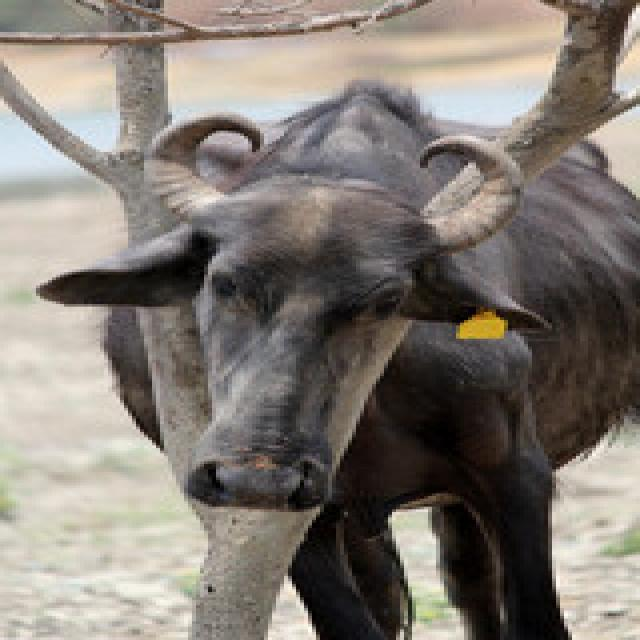Buffalo: (32, 75, 636, 637)
